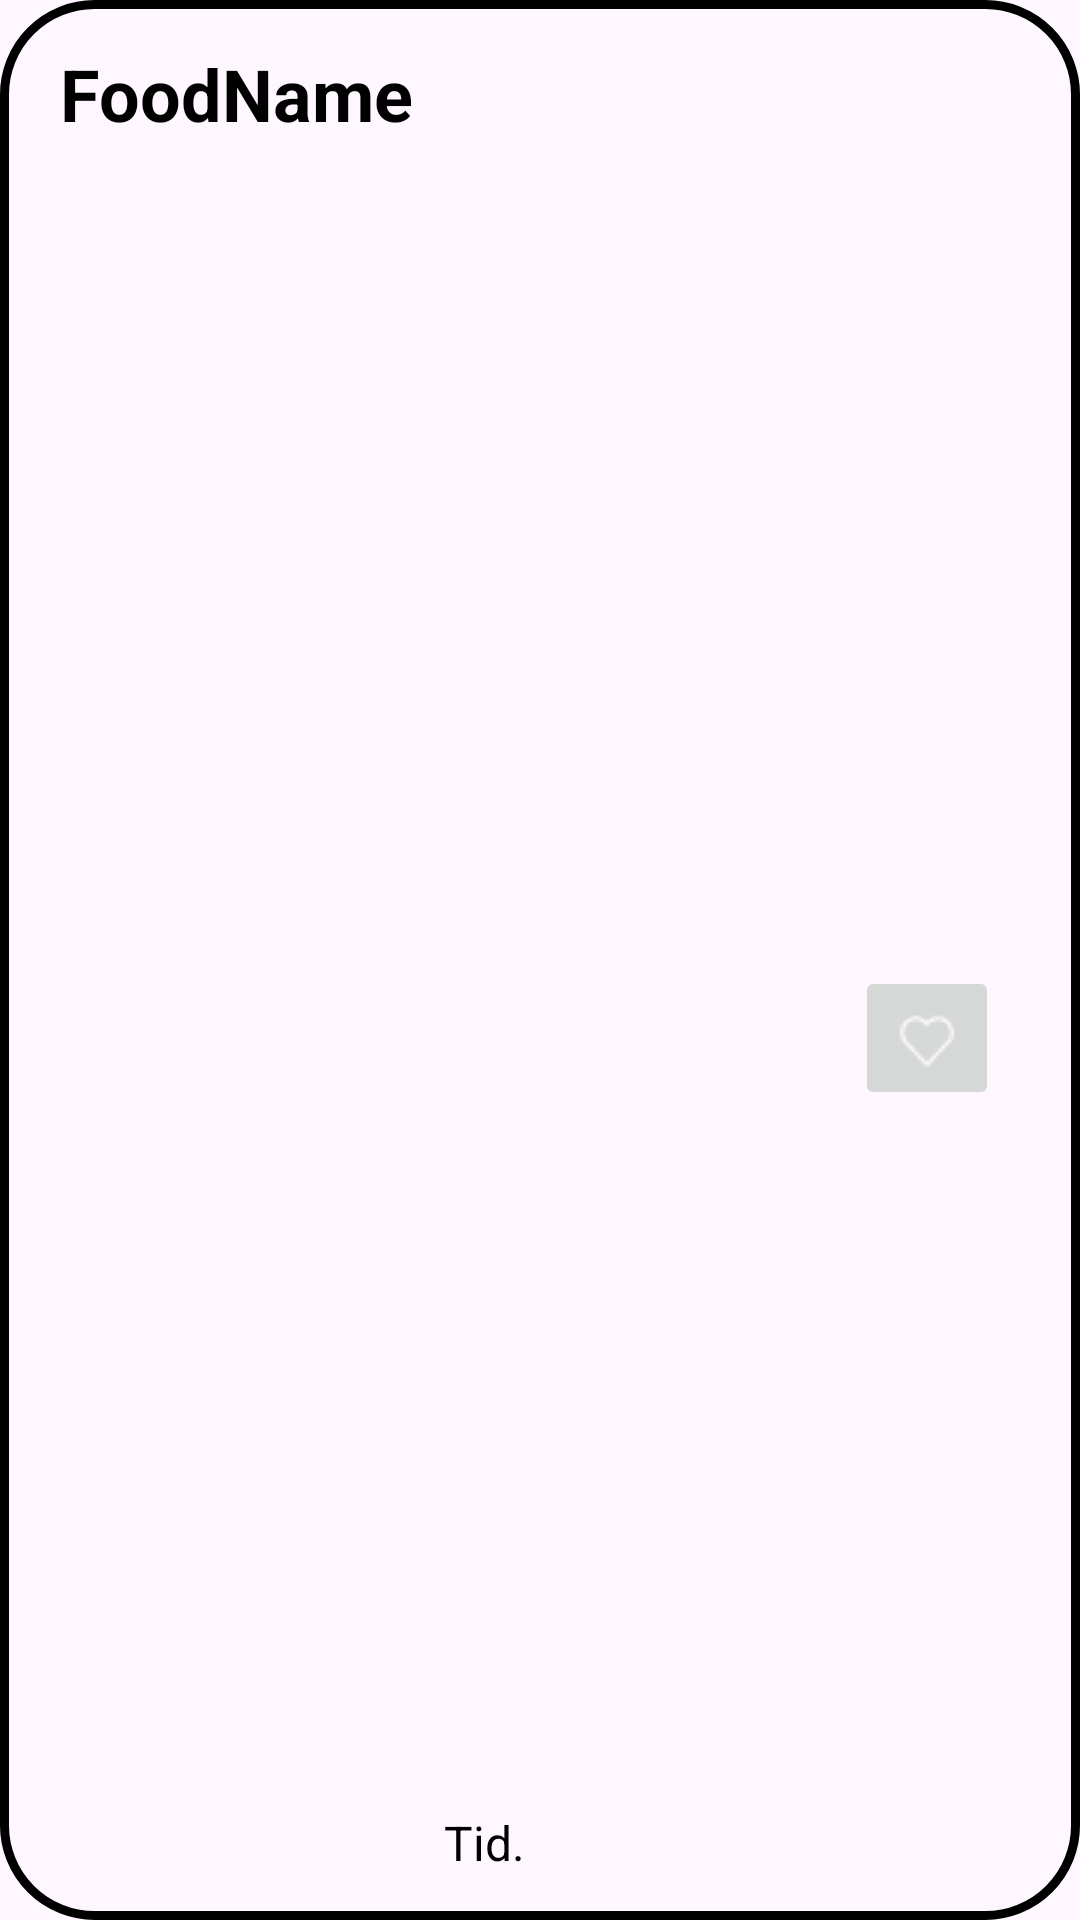

Named icons in this screenshot (1080 × 1920) and their bounding boxes, (x1, y1, x2, y2):
heart: (867, 984, 987, 1092)
